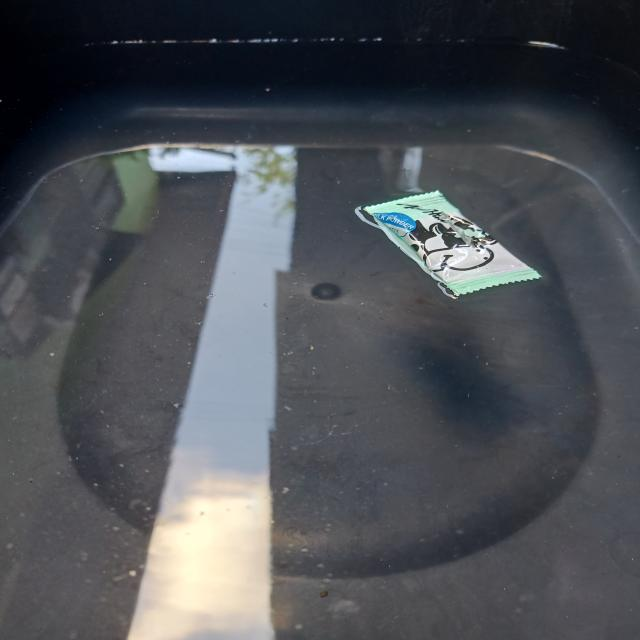Plastic Wrapper: (350, 184, 552, 304)
